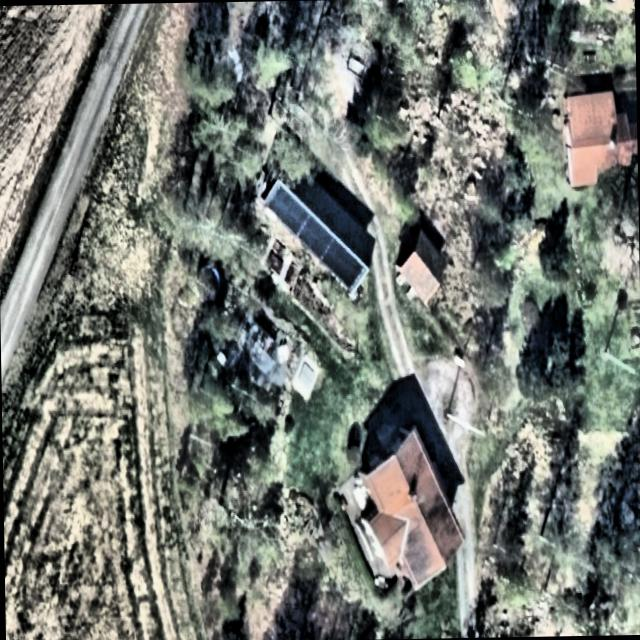roof_pv: (266, 180, 308, 237), (324, 234, 362, 292), (302, 214, 332, 260)
